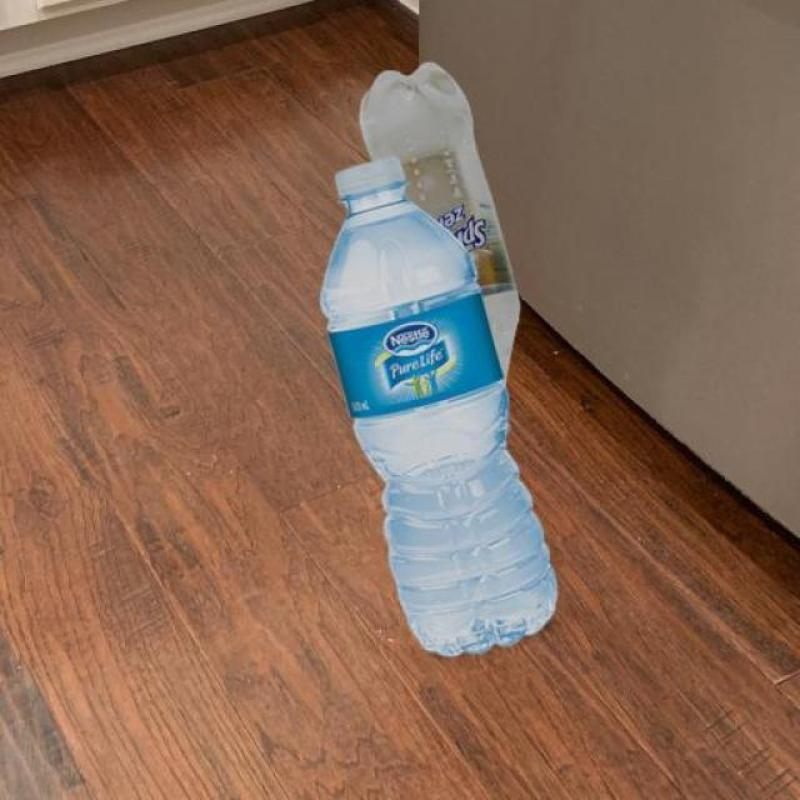botella: (316, 157, 560, 658), (356, 63, 525, 399)
